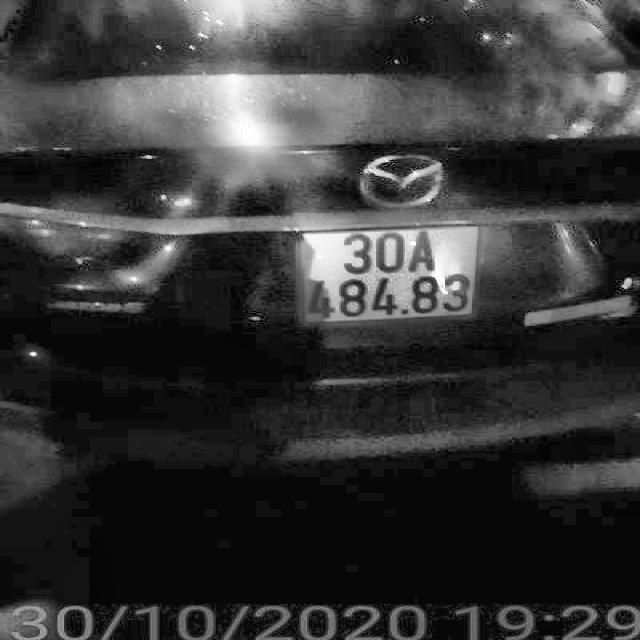plate: (294, 213, 496, 331)
